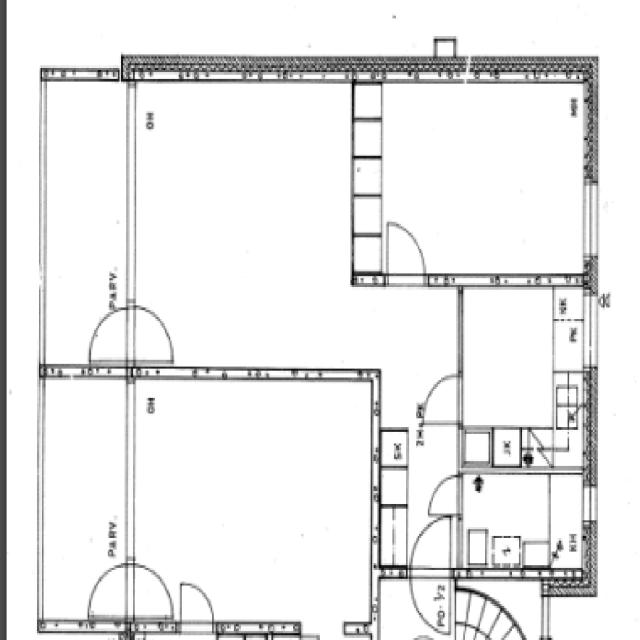door: (407, 513, 453, 631), (381, 216, 431, 289), (129, 300, 178, 371), (130, 560, 174, 633), (85, 560, 130, 626), (86, 304, 132, 368), (419, 368, 465, 428), (176, 576, 218, 638), (425, 470, 464, 520)
window: (579, 174, 604, 266), (447, 288, 470, 382), (578, 290, 602, 373), (580, 480, 600, 530)
zone: (128, 80, 358, 372), (130, 374, 372, 631), (354, 79, 591, 279), (41, 82, 129, 374), (458, 281, 587, 465), (39, 368, 128, 630), (456, 470, 592, 576)
